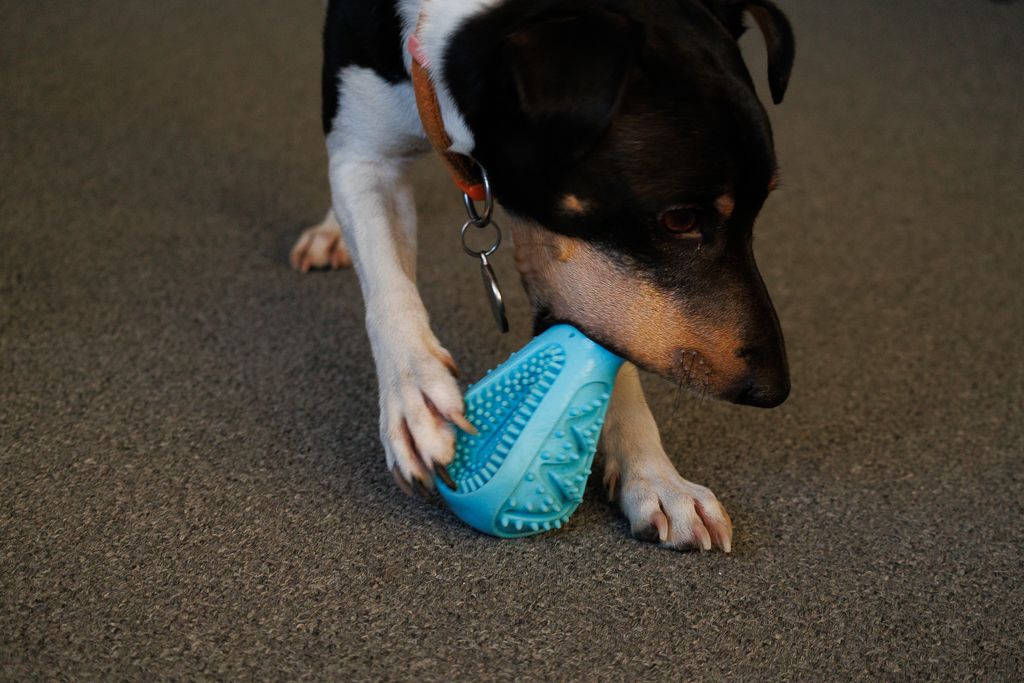Dog: (266, 0, 807, 567)
